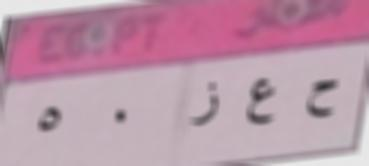0: (106, 98, 139, 134)
5: (32, 100, 68, 147)
7aa: (299, 69, 343, 136)
ain: (238, 72, 281, 132)
zay: (184, 77, 225, 139)
